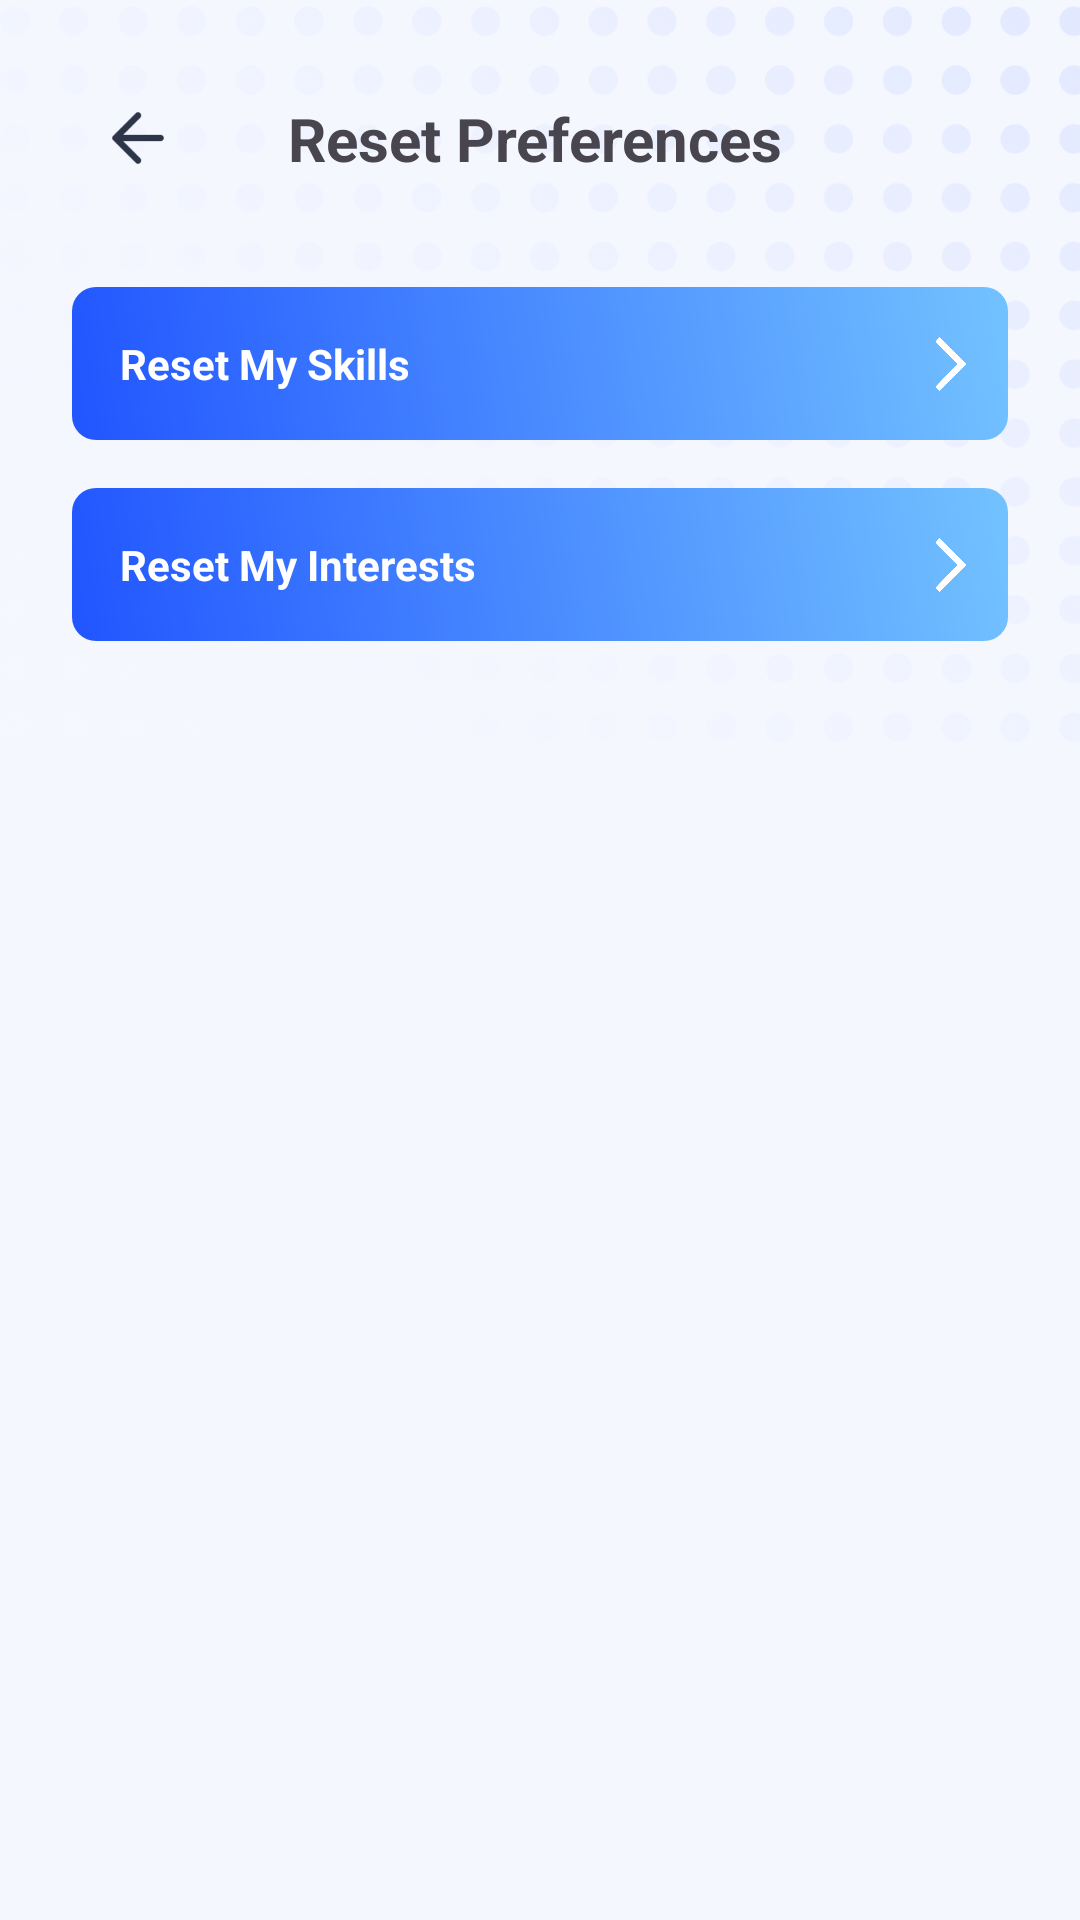

Screen size 1080x1920. Icon name, then its box in pixels as BBox(x1, y1, x2, y2):
ICON BACK SETTINGS: BBox(112, 112, 164, 164)
